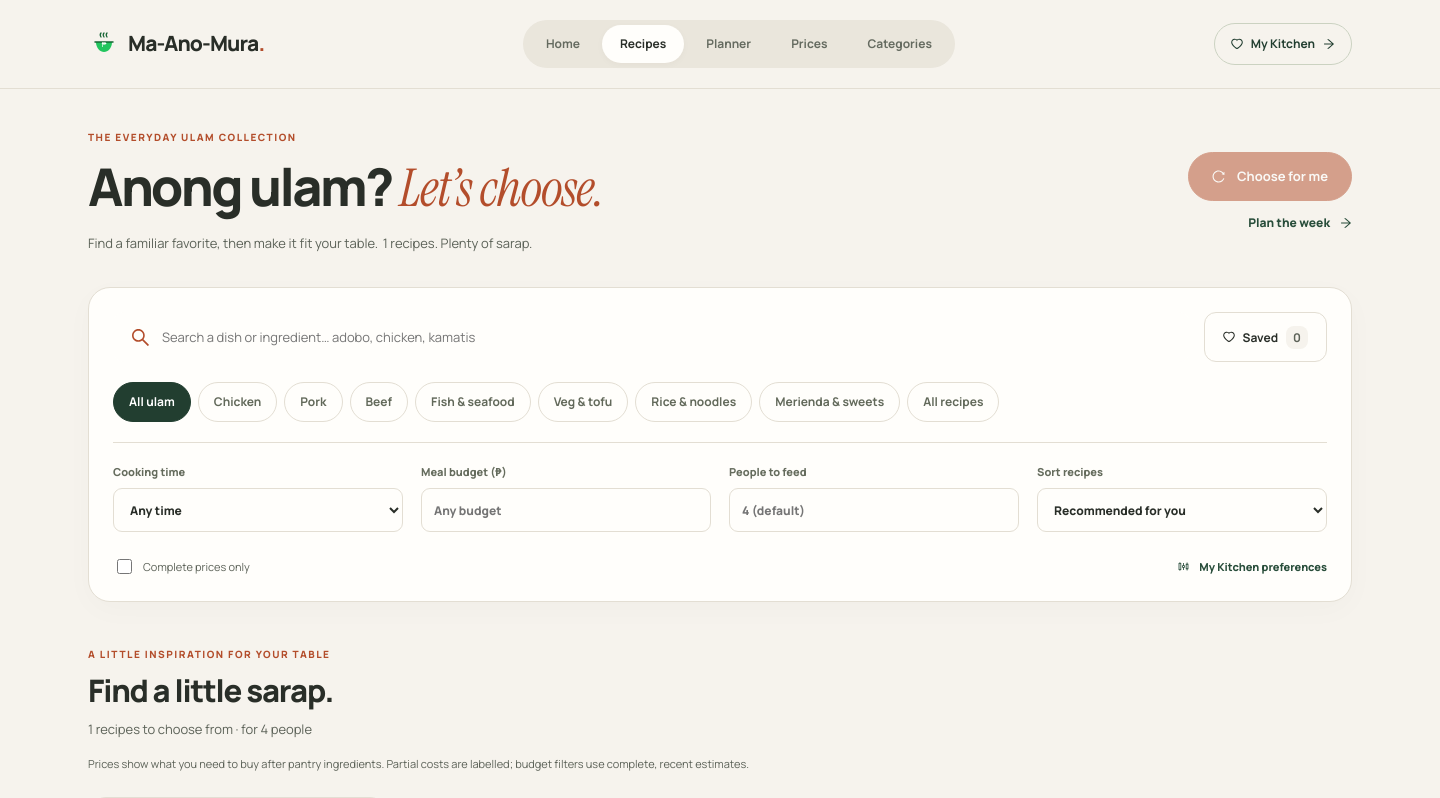
Test: recipes without original portions never claim a household estimate or qualify for a budget filter
The image size is (1440, 798).
Expected: the button "Choose for me" is disabled, [1188,152,1352,201]
Type "500" into the number field named "Recipe meal budget (₱)".
click(566, 510); type("500")  # box [421,488,711,532]
(page scrolled)
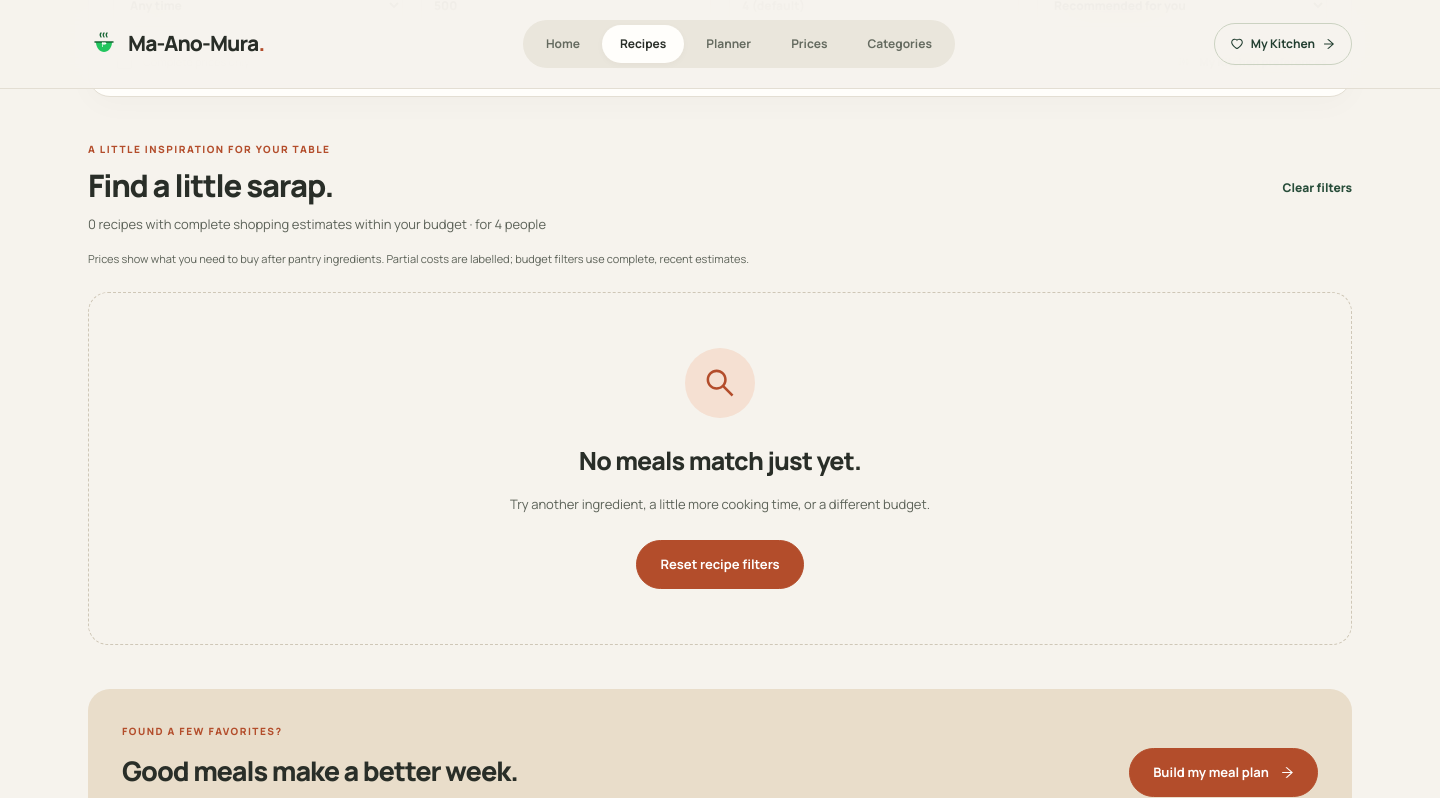
Expected: the heading "No meals match just yet." is shown, [579,441,861,481]
